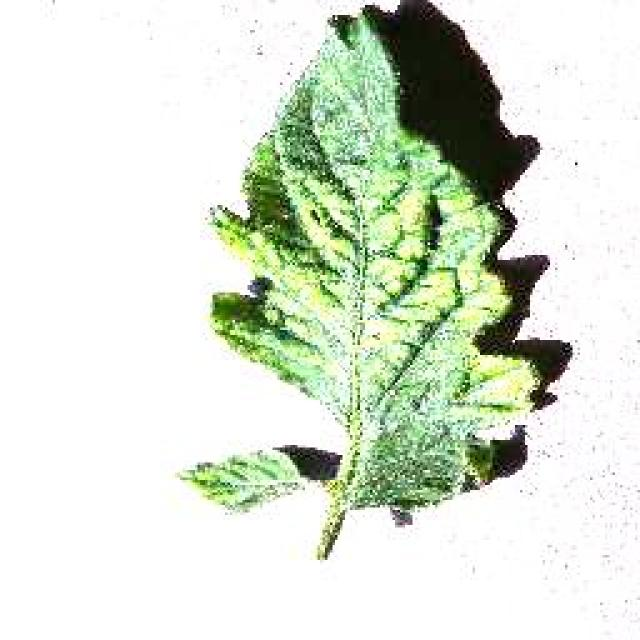Tomato___Tomato_mosaic_virus: (210, 8, 538, 558)
